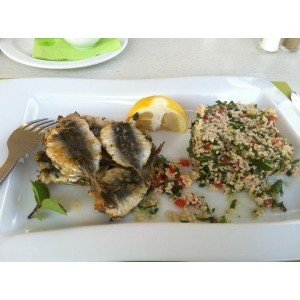sardine_brain food: (35, 115, 154, 222)
